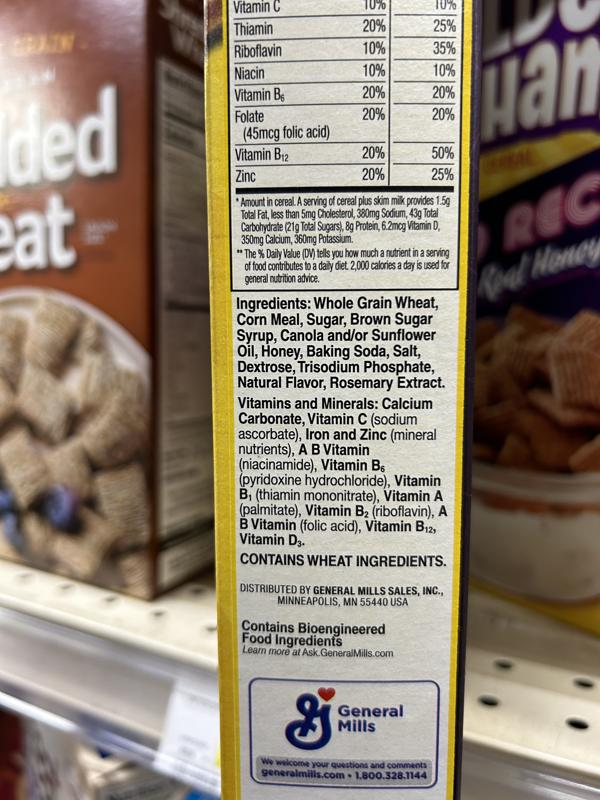ingredients: (233, 294, 451, 392)
